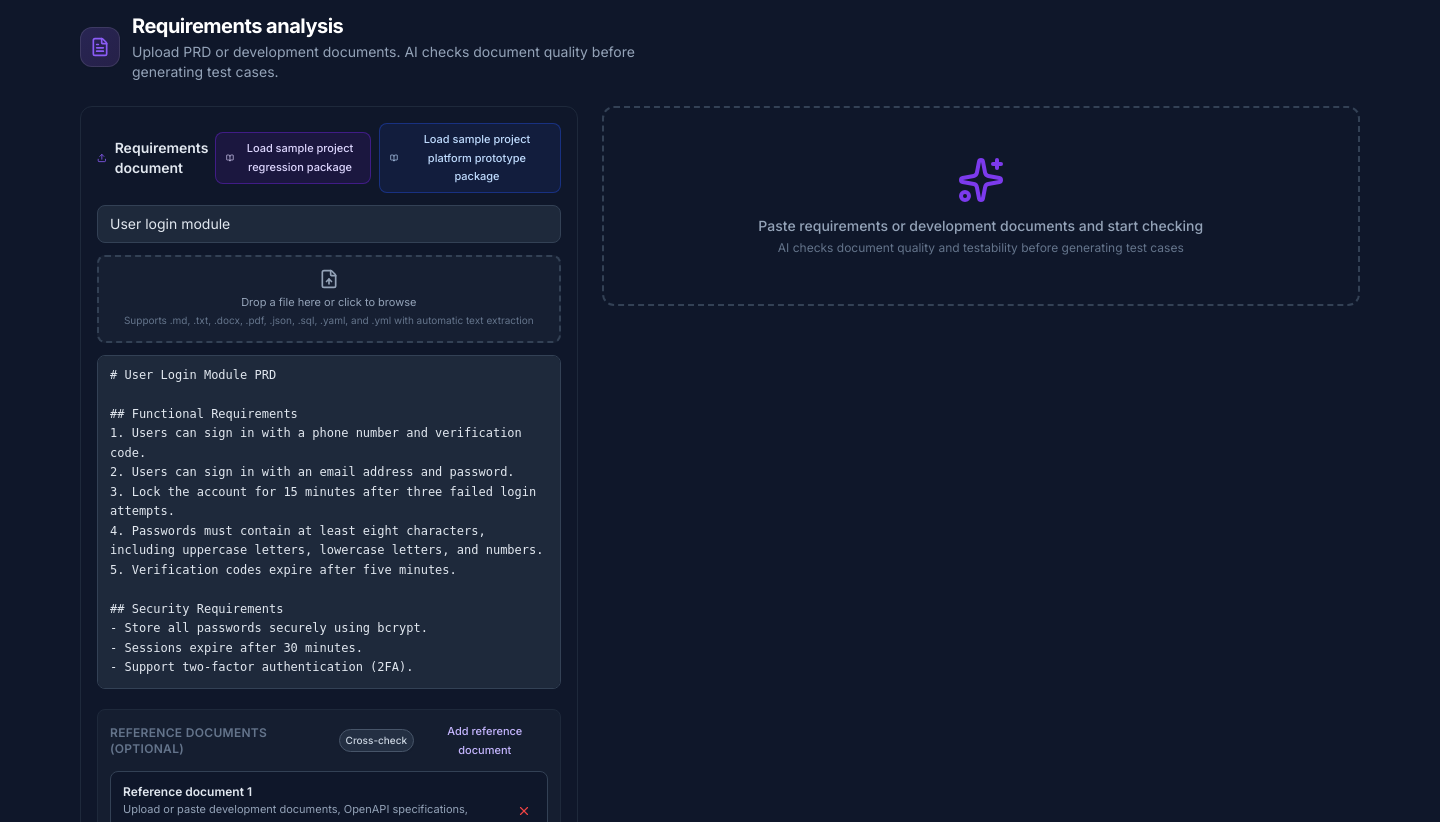
Test: RequirementPage › should load sample_platform playbook into editor
Step 1. Click the button "Load sample project regression package" → (293, 158), box [215,132,371,184]
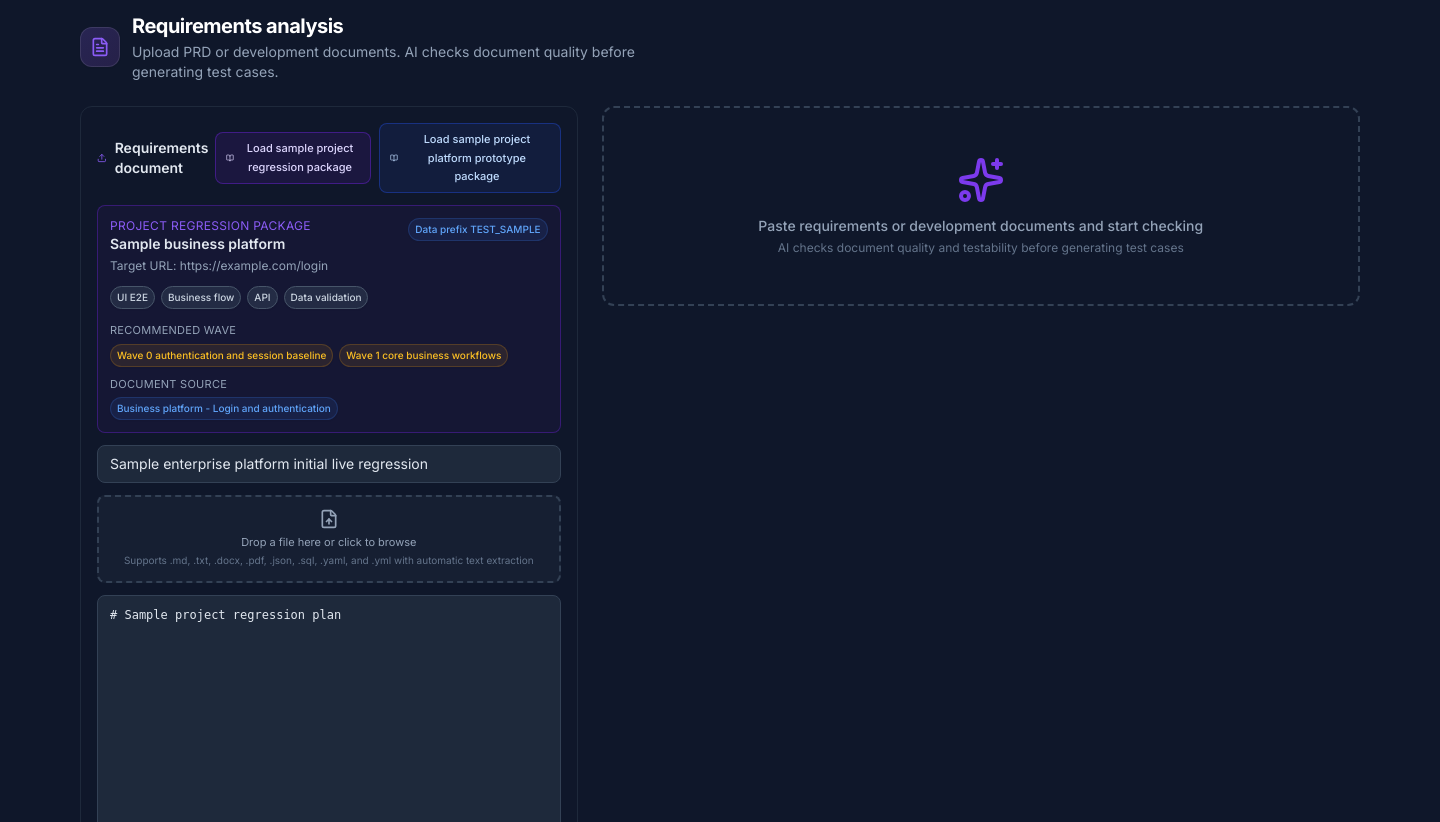
Check: the heading "Sample business platform" is shown, box [110,235,285,252]
Check: the field showing "Sample enterprise platform initial live regression" is shown, box [97,445,561,483]
Check: the text "Target URL: https://example.com/login" is shown, box [110,258,328,274]
